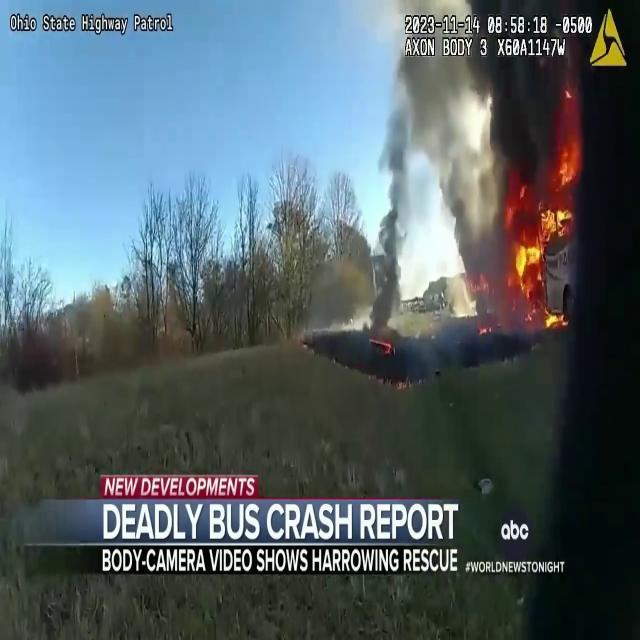Fire: (511, 112, 583, 324)
Smoke: (416, 54, 528, 302), (372, 116, 415, 338)
